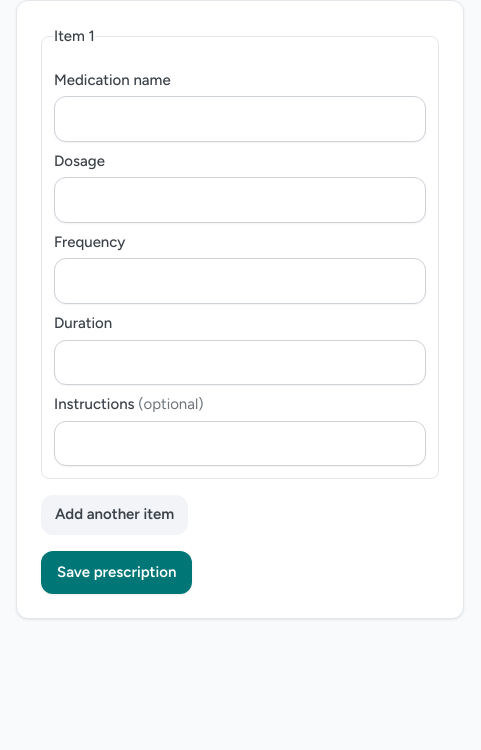
Test: PrescriptionForm › creates a prescription with one item and lists it afterward
In the field labelled "Medication name": (240, 119) [54,96,426,142], type "Amoxicillin"
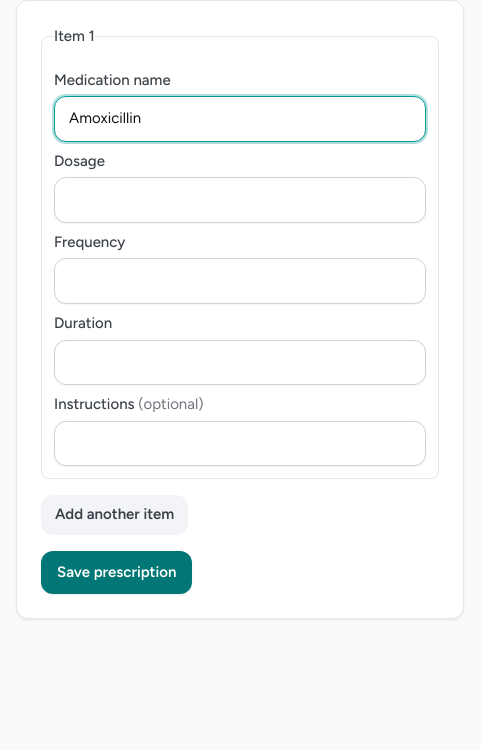
In the field labelled "Dosage": (240, 200) [54,177,426,223], type "500mg"
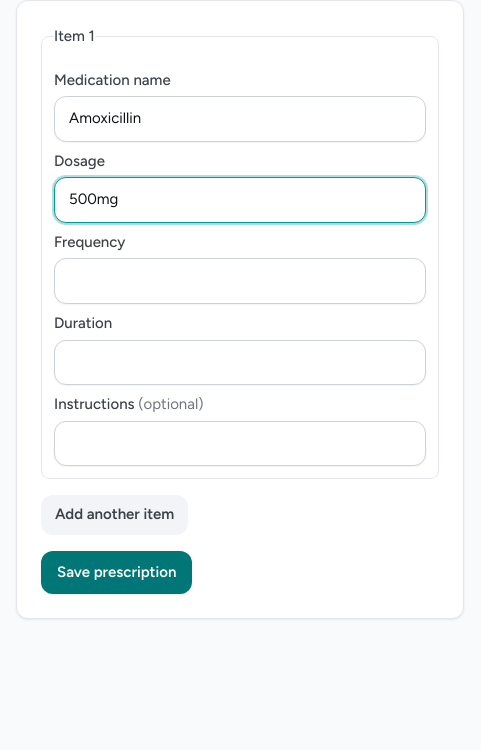
In the field labelled "Frequency": (240, 281) [54,258,426,304], type "3x daily"
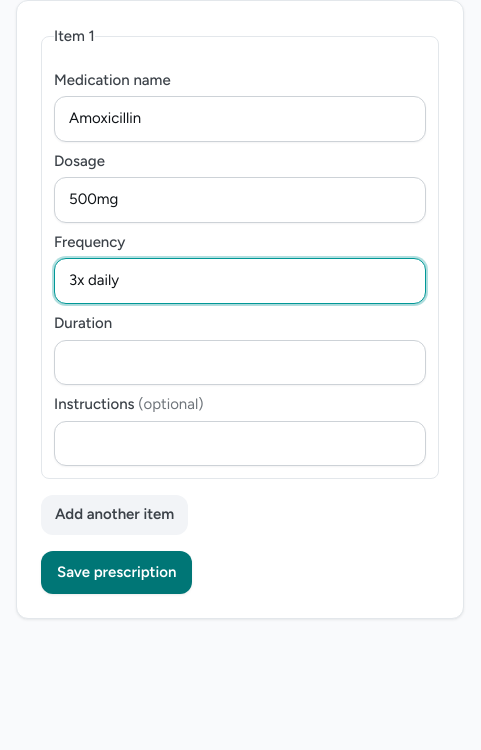
In the field labelled "Duration": (240, 362) [54,340,426,385], type "7 days"
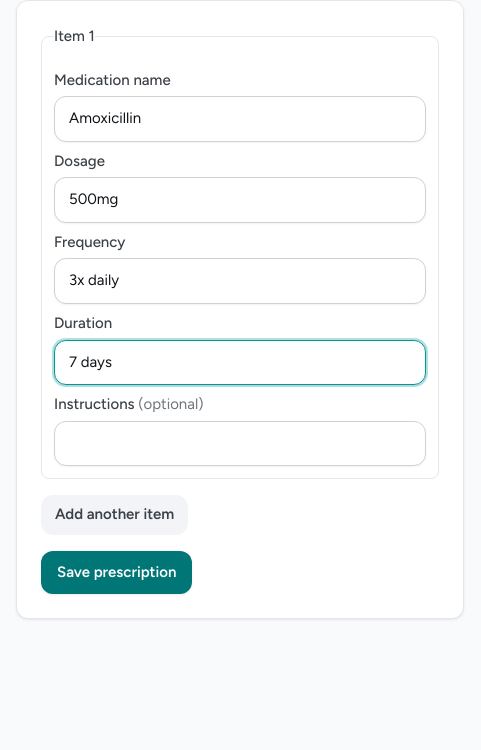
Click the button "Save prescription": (117, 573) [41,551,192,594]
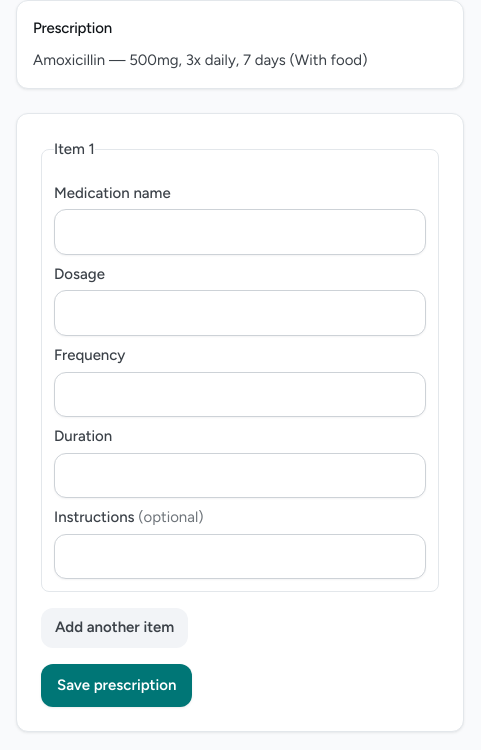
Check: the list item "Amoxicillin — 500mg, 3x daily, 7 days (With food)" is shown, box [33,51,367,69]
